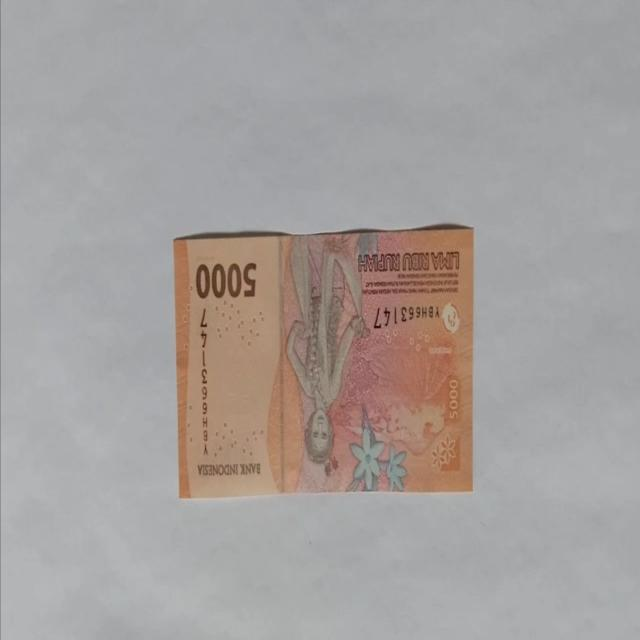lima ribu rupiah: (172, 223, 476, 498)
